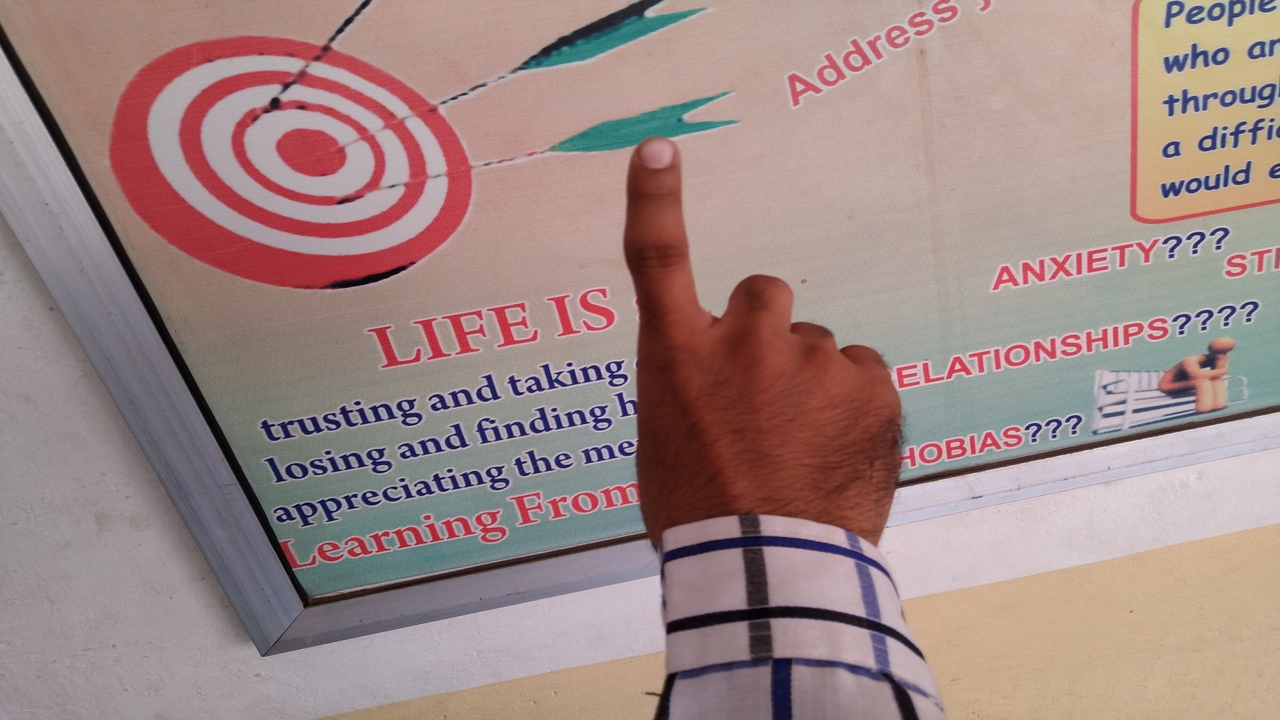fingertip: (624, 126, 686, 186)
